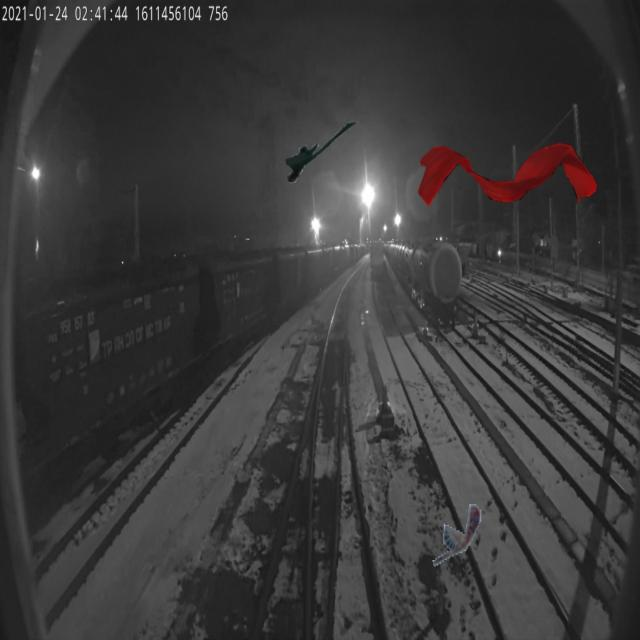floating object: (418, 143, 597, 207), (286, 120, 360, 184), (429, 502, 482, 566)
